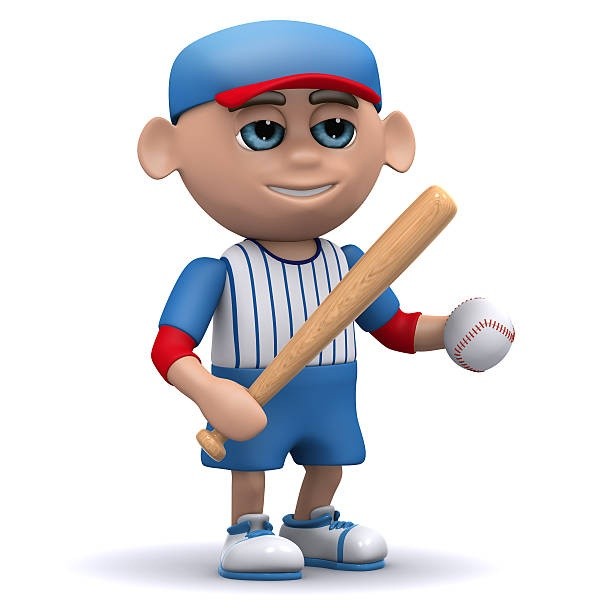bita: (205, 191, 455, 455)
